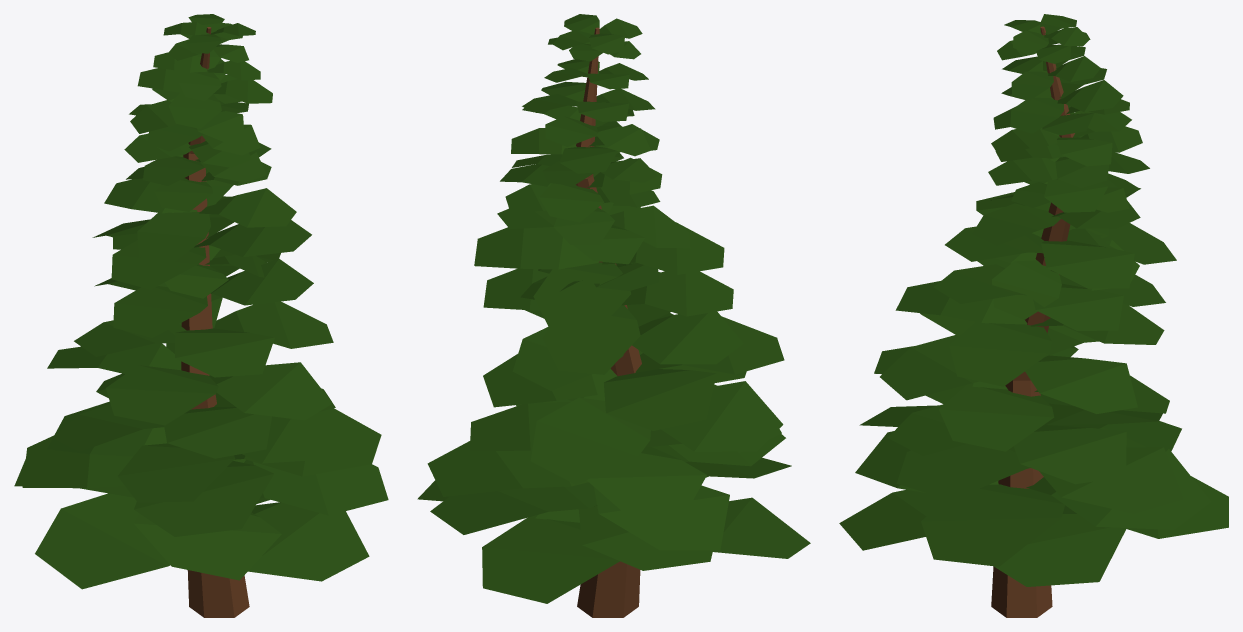
File: uploads_files_3070616_tree+3.fbx
3 views of the same model, side by side, from view 1: azimuth 30°, elevation 25°; view 2: azimuth 150°, elevation 25°; view 3: azimuth 270°, elevation 25° (orthographic). The views are drawn at different scales.
Visible parts, largest first — view 1: Plane.001, Plane.002, Plane.010, Plane.005, Plane.014, Plane.023, Plane.020, Plane.006, Plane.019, Cylinder.001, Plane.027, Plane.009 (+32 smaller); view 2: Plane, Plane.017, Plane.022, Plane.013, Plane.018, Plane.007, Plane.008, Plane.032, Plane.009, Plane.026, Cylinder.001, Plane.035 (+38 smaller); view 3: Plane.006, Plane.003, Plane.012, Plane.016, Plane.024, Plane.008, Plane.011, Plane.021, Cylinder.001, Plane.007, Plane.002, Plane.035 (+40 smaller).
Boxes of the visible parts, box(x1,y1,x2,y2) form: Plane.001: box(35, 493, 169, 589); Plane.002: box(248, 502, 369, 581); Plane.010: box(134, 461, 273, 536); Plane.005: box(133, 512, 281, 580); Plane.014: box(117, 443, 235, 502); Plane.023: box(105, 365, 218, 425); Plane.020: box(209, 362, 332, 420); Plane.006: box(244, 459, 388, 515); Plane.019: box(164, 407, 271, 458); Cylinder.001: box(181, 27, 249, 617); Plane.027: box(175, 328, 274, 377); Plane.009: box(22, 436, 132, 487); Plane: box(482, 517, 619, 603); Plane.017: box(530, 397, 650, 484); Plane.022: box(604, 369, 716, 430); Plane.013: box(587, 447, 706, 520); Plane.018: box(661, 381, 783, 451); Plane.007: box(430, 482, 596, 534); Plane.008: box(427, 441, 588, 496); Plane.032: box(533, 262, 630, 333); Plane.009: box(594, 485, 729, 550); Plane.026: box(632, 311, 743, 364); Cylinder.001: box(576, 27, 641, 617); Plane.035: box(474, 227, 598, 269); Plane.006: box(921, 484, 1064, 566); Plane.003: box(994, 506, 1126, 586); Plane.012: box(1013, 425, 1126, 484); Plane.016: box(939, 385, 1054, 451); Plane.024: box(949, 322, 1051, 386); Plane.008: box(1039, 447, 1183, 513); Plane.011: box(897, 444, 1031, 500); Plane.021: box(1025, 355, 1137, 413); Cylinder.001: box(991, 26, 1074, 617); Plane.007: box(1026, 448, 1210, 529); Plane.002: box(839, 489, 945, 550); Plane.035: box(1041, 240, 1134, 288).
Bounding box in the file's own units: 127 × 205 × 125.
